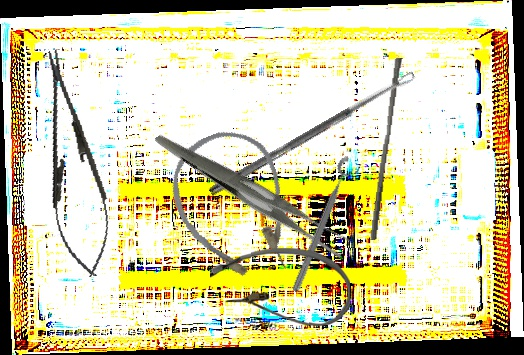Cannula: (156, 117, 312, 299), (209, 246, 351, 330)
Dressing Forceps: (154, 85, 355, 299)
Fixation Ring: (287, 153, 364, 298)
Needle Holder: (25, 45, 122, 282)
Pusher: (369, 56, 403, 242)
Surgical Spoon: (208, 70, 417, 198)
